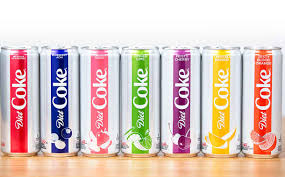coke-can-diet: (79, 43, 119, 160), (1, 42, 40, 157), (203, 42, 241, 158), (162, 44, 199, 155), (122, 44, 158, 156), (244, 44, 279, 159), (44, 42, 78, 157)
